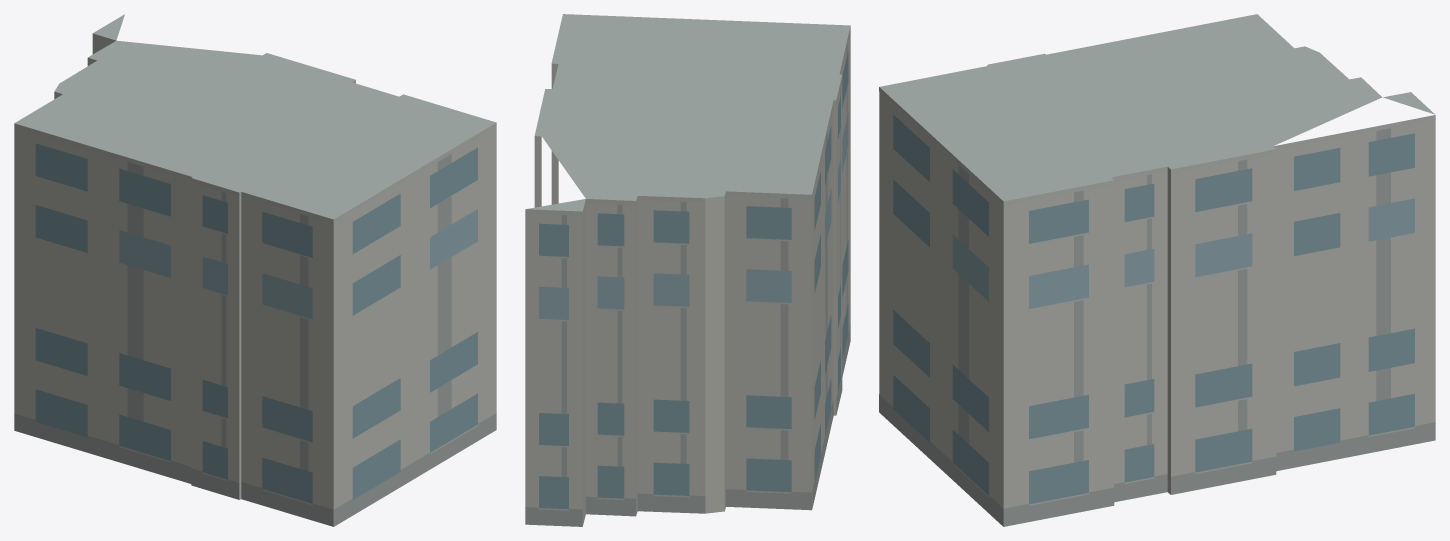
The model's file is survey-upis-32605805.glb.
3 renders of one model, left to right at view 1: azimuth 30°, elevation 25°; view 2: azimuth 150°, elevation 25°; view 3: azimuth 270°, elevation 25°, orthographic. The views are drawn at different scales.
Visible parts, largest first — view 1: survey-upis-32605805.tmp; view 2: survey-upis-32605805.tmp; view 3: survey-upis-32605805.tmp.
Part boxes in pixels (x1,y1,x2,y2): survey-upis-32605805.tmp: [14, 14, 496, 526]; survey-upis-32605805.tmp: [525, 14, 850, 526]; survey-upis-32605805.tmp: [879, 14, 1435, 526].
Size of the model in its own units: 21 by 17 by 26.35.
